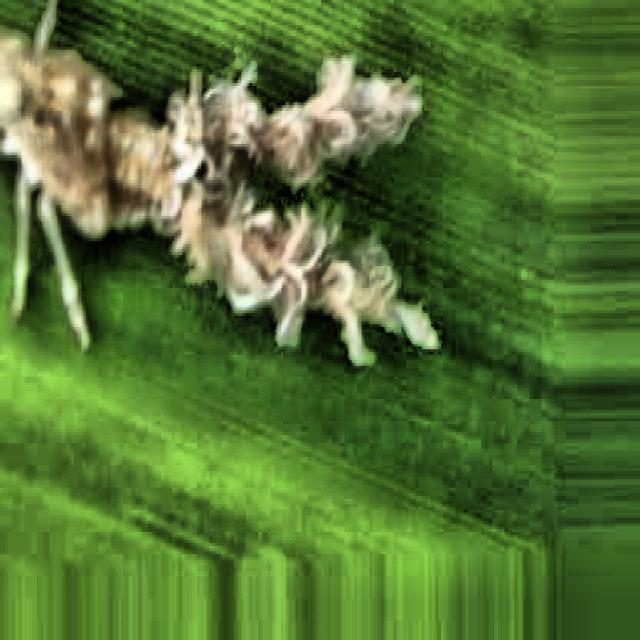Pyrilla-perpusilla: (0, 0, 433, 376)
